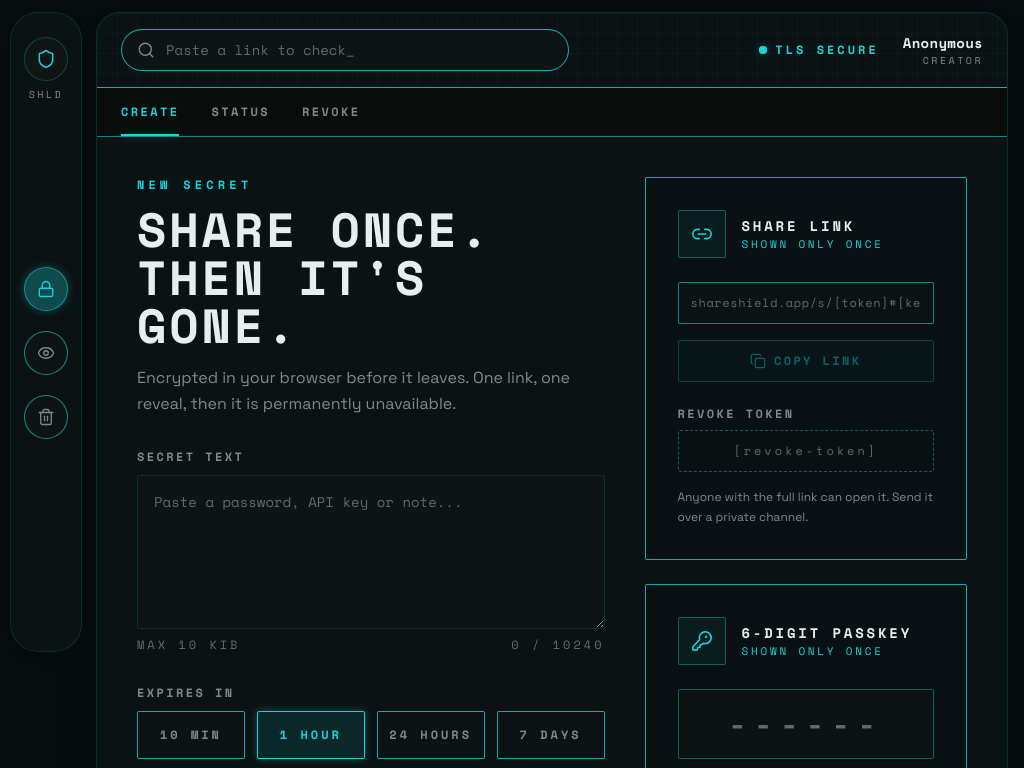
it: ShareShield Component Integration & Passkey Security Rules › App Layout and Navigation › renders CreateView by default and switches tabs when clicking TabBar buttons
Expected: the heading "SHARE ONCE.THEN IT'S GONE." is shown, [137, 193, 492, 360]
Note: Click STATUS tab
Click the button "STATUS" at x=241, y=112, box [212, 88, 270, 136]
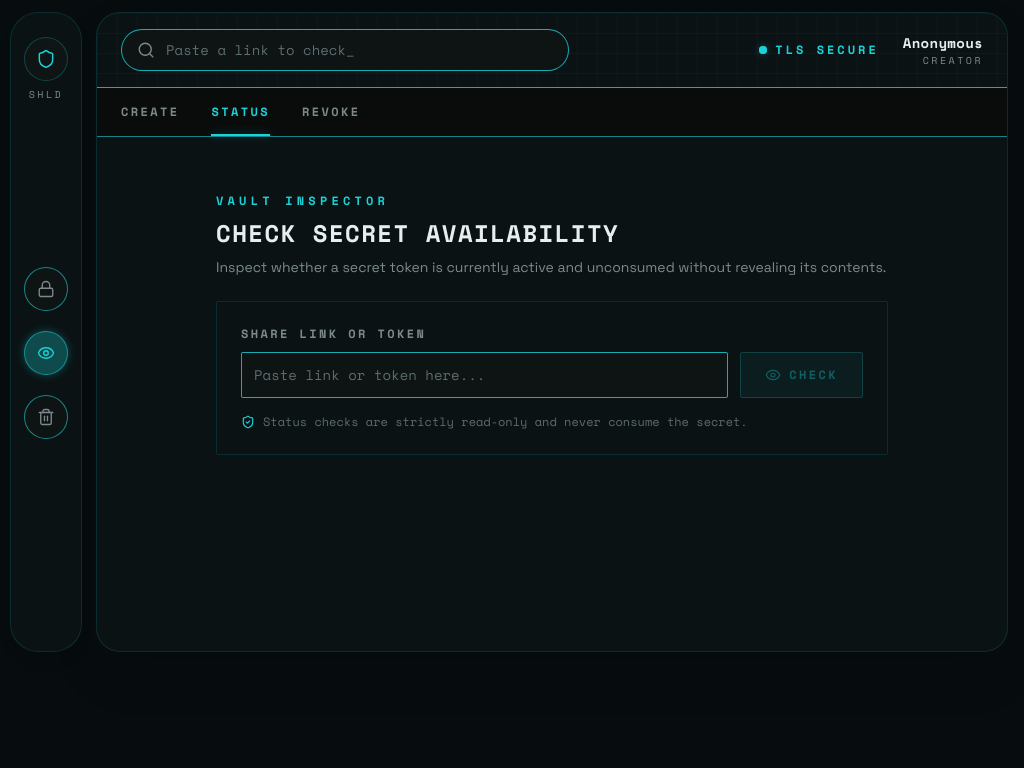
Now the heading "CHECK SECRET AVAILABILITY" is shown, box [216, 215, 619, 251]
Note: Click REVOKE tab
Click the button "REVOKE" at x=331, y=112, box [302, 88, 360, 136]
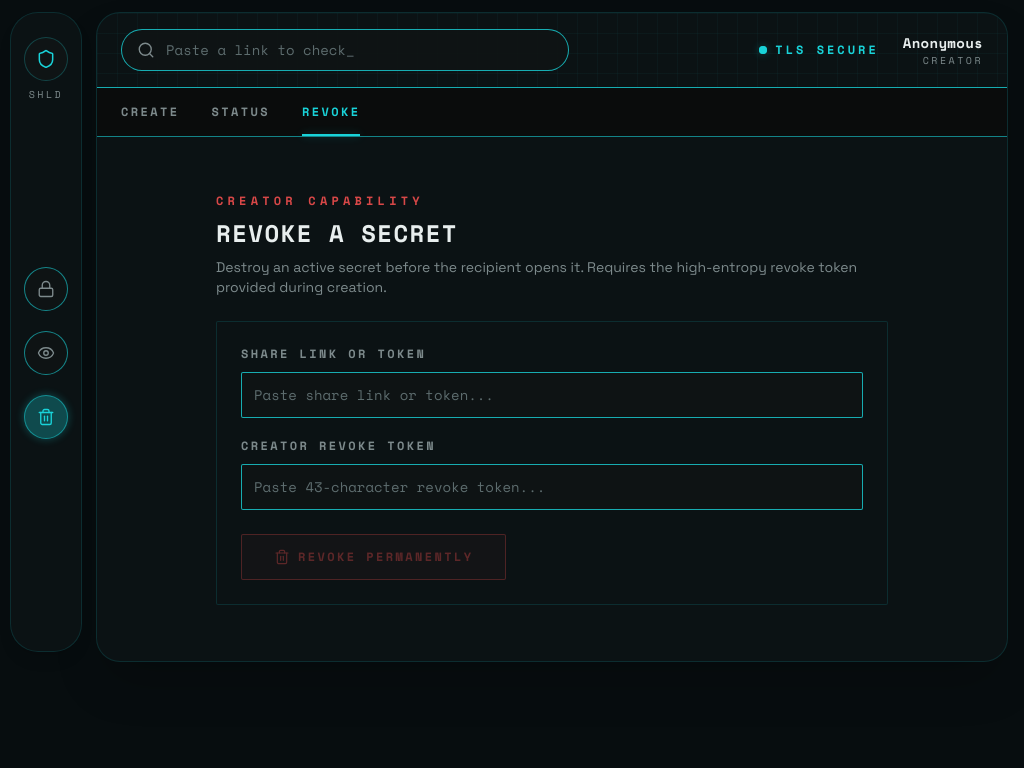
Now the heading "REVOKE A SECRET" is shown, box [216, 215, 458, 251]
